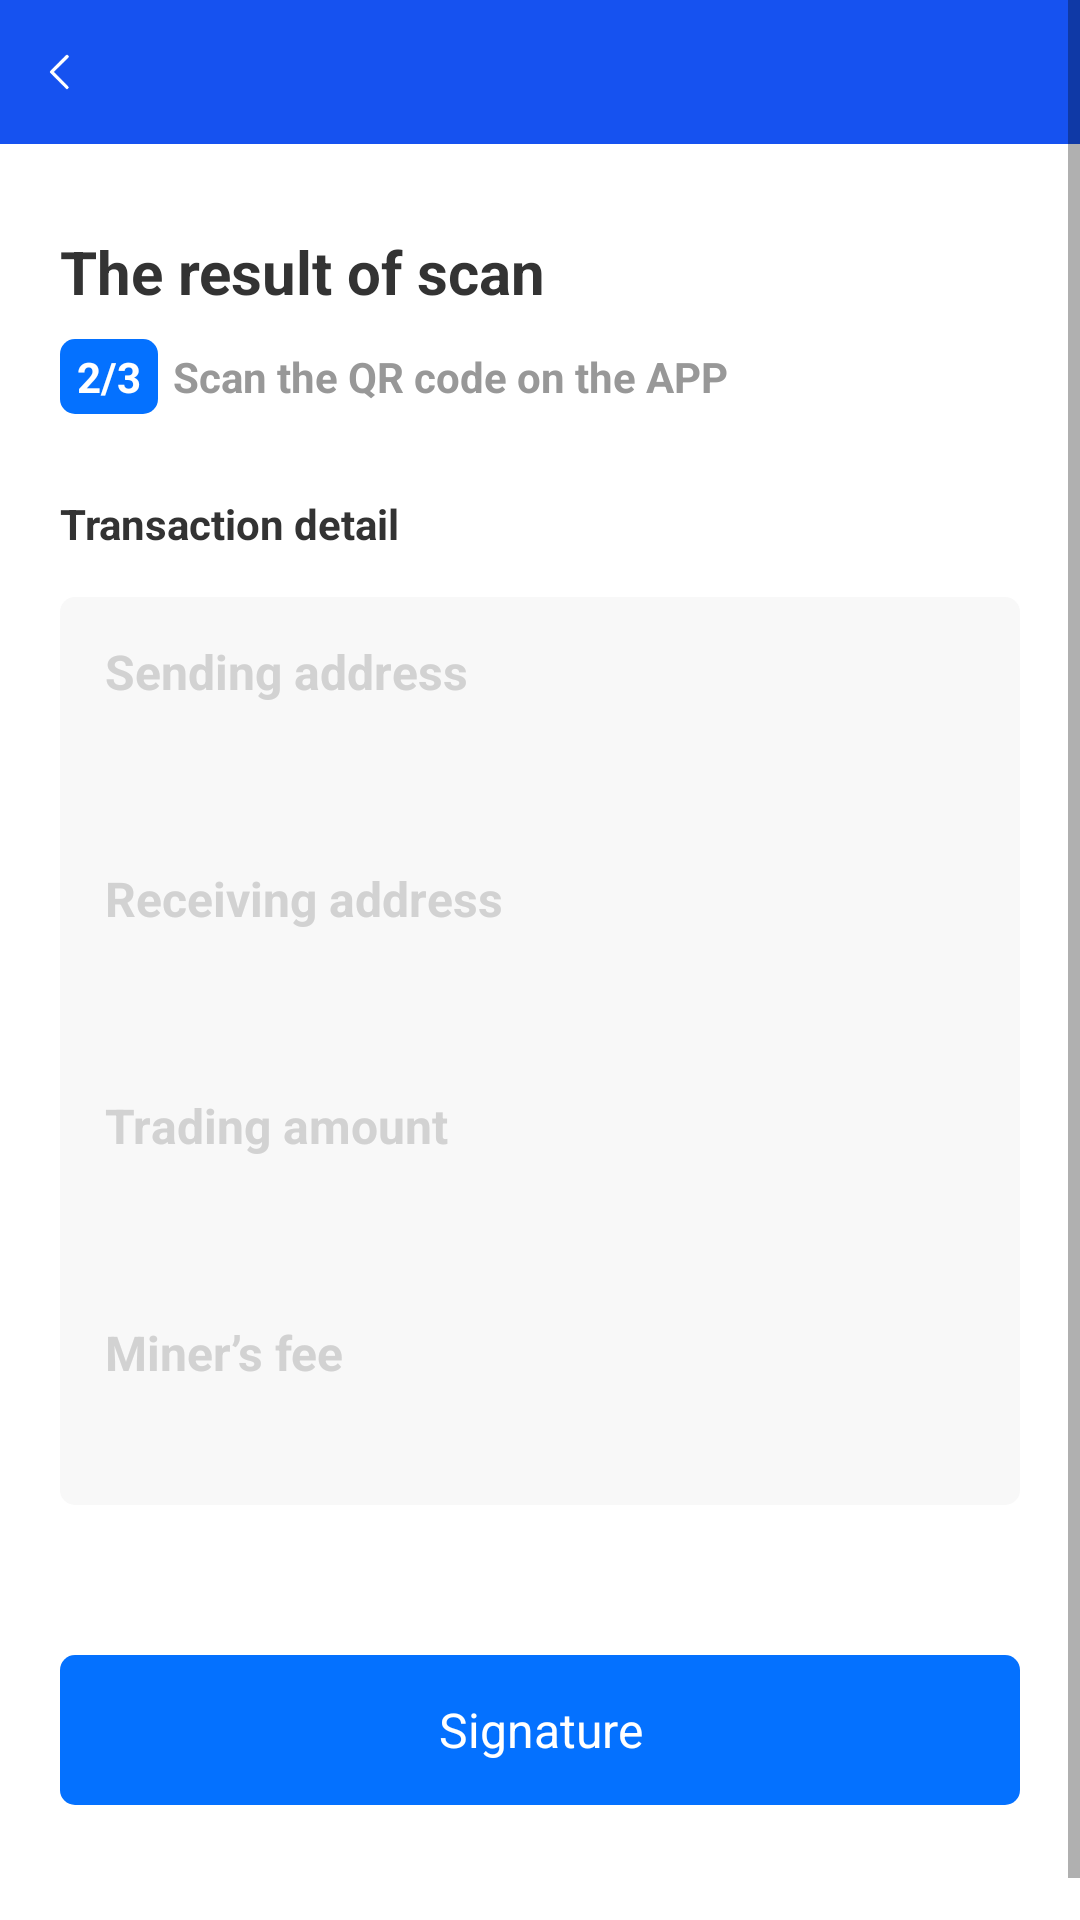

Screen size 1080px x 1920px. Icon name, then its box in pixels as (x1, y1, x2, y2):
back: (50, 54, 69, 89)
